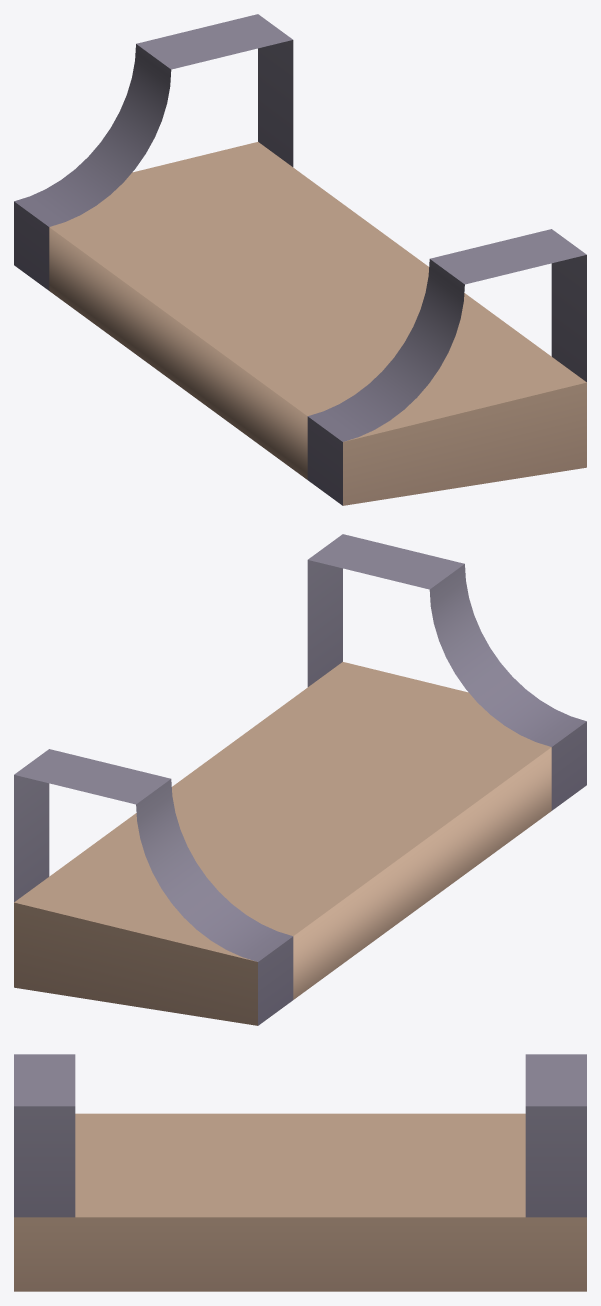
Rendered from shelf-hanging-decorative-short (%wall).glb.
The picture shows the model from 3 angles, top to bottom: view 1: azimuth 30°, elevation 25°; view 2: azimuth 150°, elevation 25°; view 3: azimuth 270°, elevation 25°; orthographic projection. The views are drawn at different scales.
Visible parts, largest first — view 1: shelf-hanging-decorative-short (%wall); view 2: shelf-hanging-decorative-short (%wall); view 3: shelf-hanging-decorative-short (%wall).
Part boxes in pixels (x1=…): shelf-hanging-decorative-short (%wall): x1=14, y1=14, x2=586, y2=505; shelf-hanging-decorative-short (%wall): x1=14, y1=534, x2=586, y2=1025; shelf-hanging-decorative-short (%wall): x1=14, y1=1054, x2=586, y2=1291.
Bounding box in the file's own units: 0.3 × 0.25 × 0.7.
